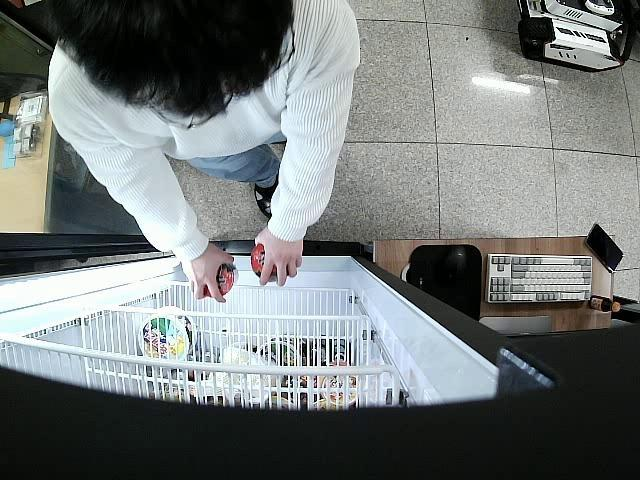02_shinRamen_S: (250, 242, 290, 284), (202, 264, 240, 298)
